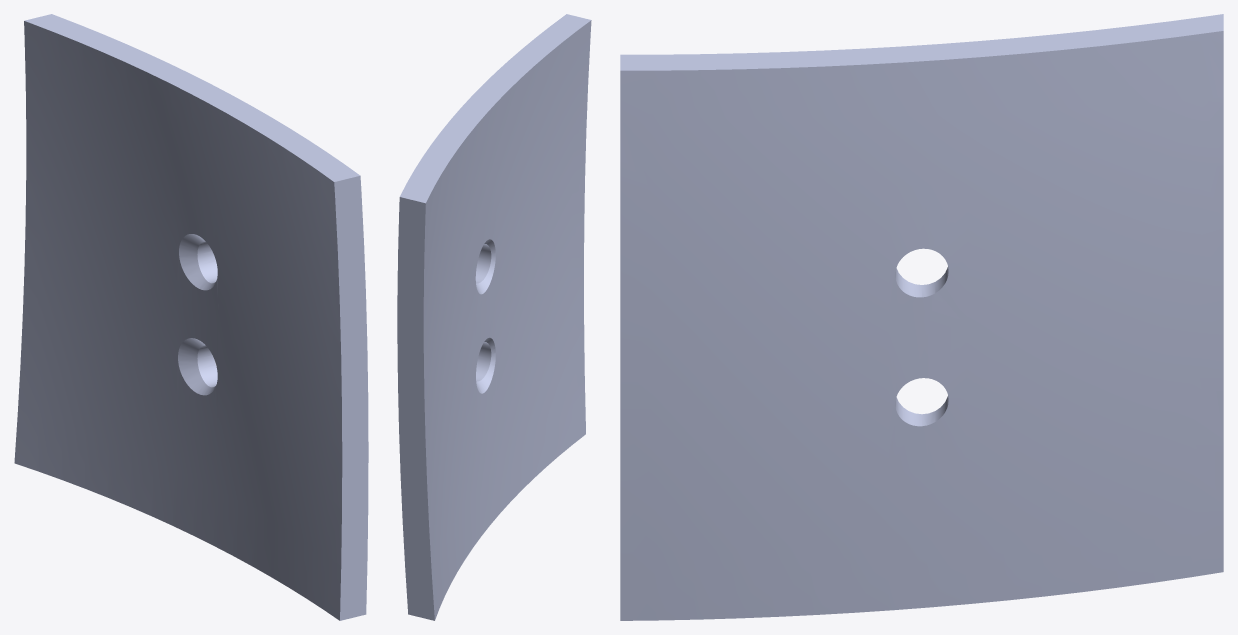
File: MirrorUA_26EV_TopSeatMounting__MirrorUA_26EV_TopSeatMounting_BackingPlate_2.dae
The picture shows the model from 3 angles, left to right: view 1: azimuth 30°, elevation 25°; view 2: azimuth 150°, elevation 25°; view 3: azimuth 270°, elevation 25°; orthographic projection. The views are drawn at different scales.
Parts seen in each view (by area): view 1: node0; view 2: node0; view 3: node0.
Boxes of the visible parts, bbox=[...] form: node0: bbox=[14, 14, 368, 620]; node0: bbox=[397, 14, 591, 620]; node0: bbox=[620, 14, 1223, 620].
Size of the model in its own units: 0.0134 by 0.0508 by 0.0508.
